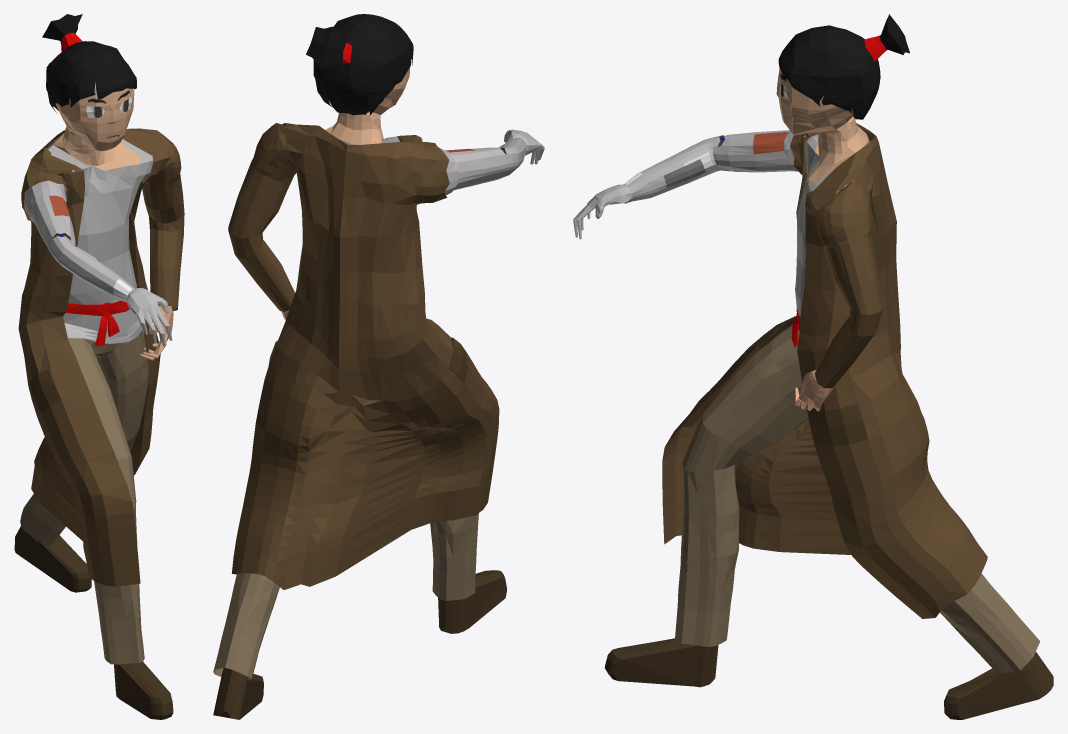
File: Special_Attack_000032.obj
3 renders of one model, left to right at view 1: azimuth 30°, elevation 25°; view 2: azimuth 150°, elevation 25°; view 3: azimuth 270°, elevation 25°, orthographic. The views are drawn at different scales.
Parts seen in each view (by area): view 1: Hair_Cube.004; view 2: Hair_Cube.004; view 3: Hair_Cube.004.
Part boxes in pixels (bbox=[...]): Hair_Cube.004: bbox=[14, 14, 184, 719]; Hair_Cube.004: bbox=[213, 14, 544, 719]; Hair_Cube.004: bbox=[573, 14, 1053, 719].
Size of the model in its own units: 1.25 by 3.73 by 2.4.
